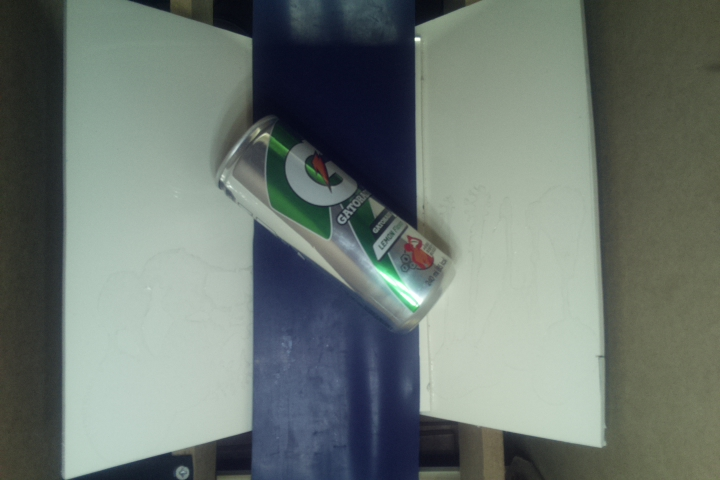can: (217, 111, 459, 337)
